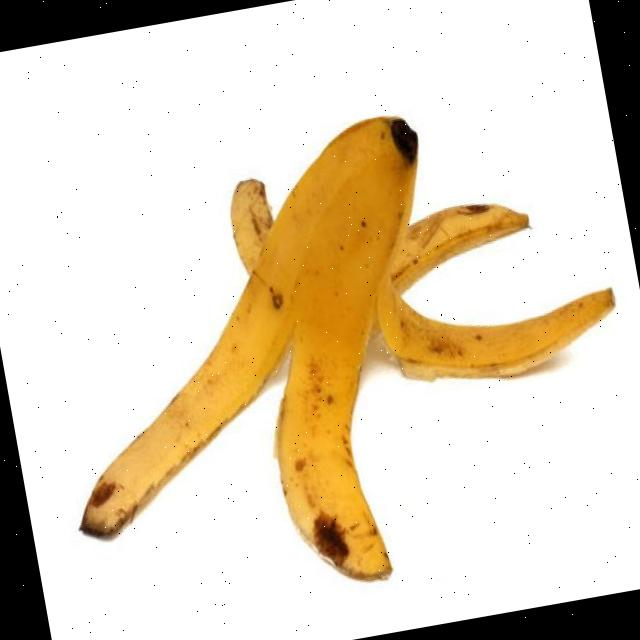banana-peel: (16, 79, 640, 631), (213, 108, 492, 595), (358, 178, 625, 398)
